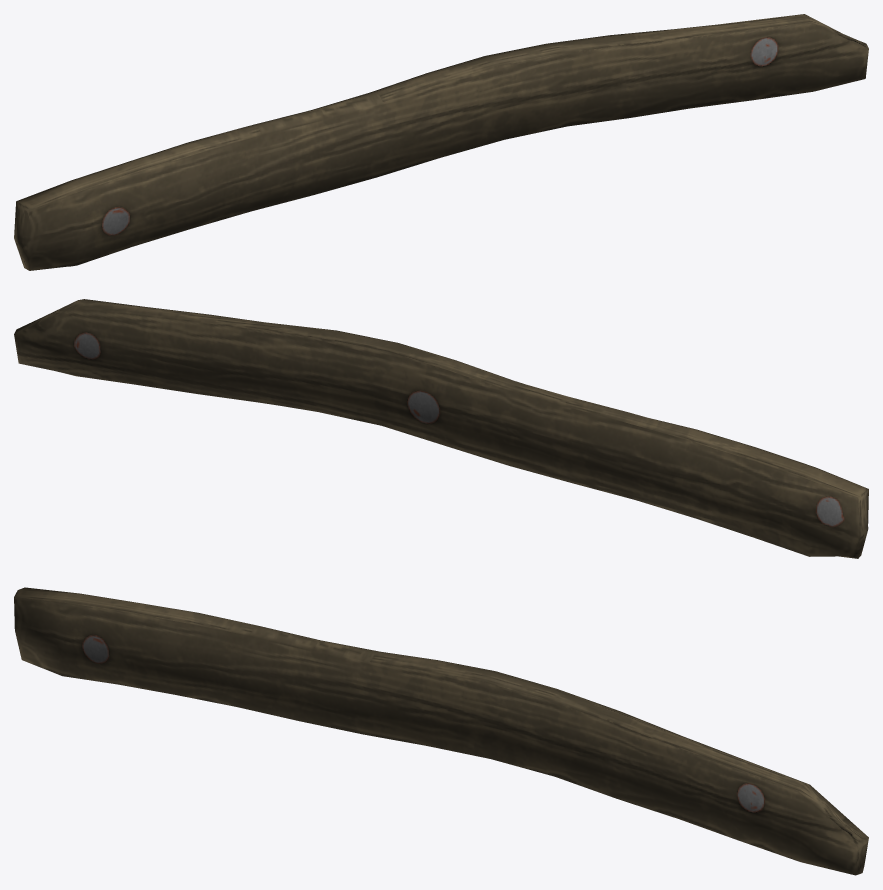
The model's file is wood_plank_B.fbx.
3 renders of one model, top to bottom at view 1: azimuth 30°, elevation 25°; view 2: azimuth 150°, elevation 25°; view 3: azimuth 330°, elevation 25°, orthographic.
Visible parts, largest first — view 1: wood_plank_B; view 2: wood_plank_B; view 3: wood_plank_B.
Boxes of the visible parts, <box> form: wood_plank_B: <box>14,14,868,270</box>; wood_plank_B: <box>14,299,868,558</box>; wood_plank_B: <box>14,587,868,875</box>.
Size of what is drawn, in the model's own units: 403 by 49.79 by 18.18.
Materials: 1 (1 with a texture image).
